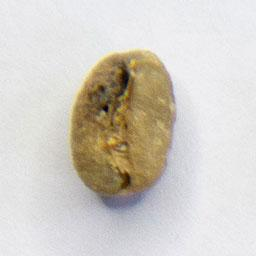defect: (66, 45, 179, 201)
